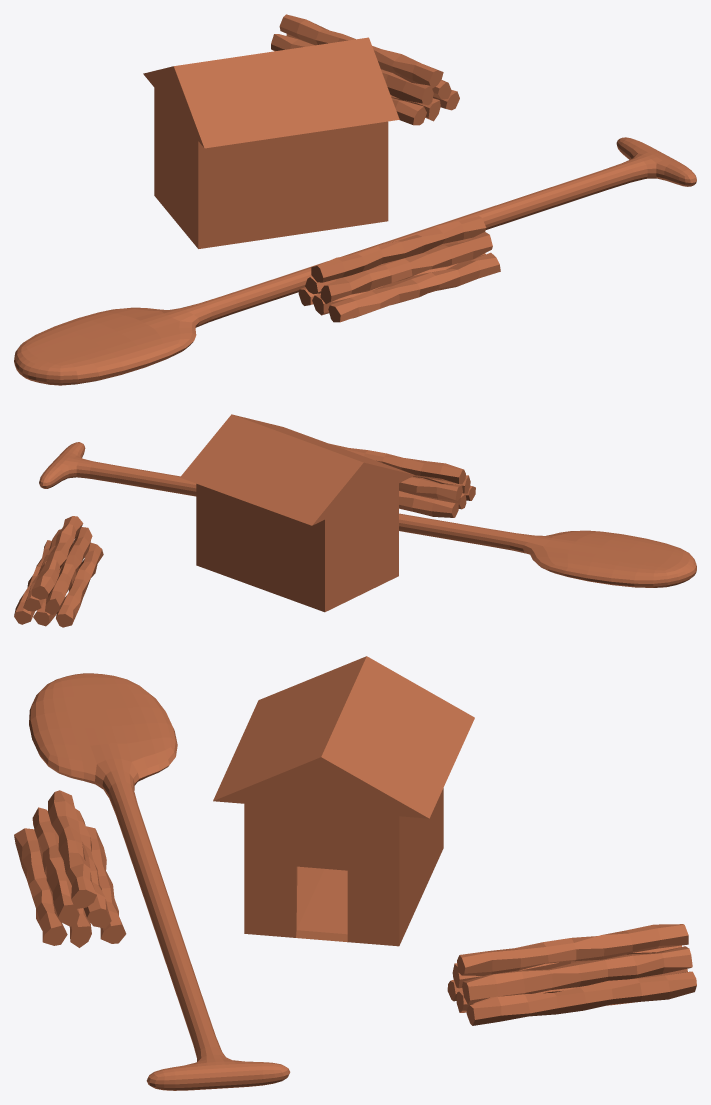
The model's file is cedar-buildings.glb.
3 renders of one model, top to bottom at view 1: azimuth 30°, elevation 25°; view 2: azimuth 150°, elevation 25°; view 3: azimuth 270°, elevation 25°, orthographic. The views are drawn at different scales.
Parts seen in each view (by area): view 1: Cube, Cube.002, Cube.001, Cylinder.003, Cylinder.002, Cylinder.005, Cylinder.011, Cylinder.009, Cylinder.001, Cylinder.008; view 2: Cube, Cube.001, Cube.002, Cylinder.005, Cylinder.011, Cylinder.009, Cylinder.008, Cylinder, Cylinder.004, Cylinder.006, Cylinder.010; view 3: Cube.001, Cube, Cube.002, Cylinder.006, Cylinder.011, Cylinder.010, Cylinder.005, Cylinder.002, Cylinder.003, Cylinder, Cylinder.004, Cylinder.009.
Boxes of the visible parts, <box> form: Cube: <box>154,88,388,248</box>; Cube.002: <box>14,137,696,385</box>; Cube.001: <box>143,37,399,148</box>; Cylinder.003: <box>320,232,492,303</box>; Cylinder.002: <box>328,252,500,322</box>; Cylinder.005: <box>311,216,486,282</box>; Cylinder.011: <box>279,14,443,88</box>; Cylinder.009: <box>271,34,433,105</box>; Cylinder.001: <box>312,253,485,315</box>; Cylinder.008: <box>391,98,426,125</box>; Cube: <box>196,483,398,612</box>; Cube.001: <box>180,414,414,525</box>; Cube.002: <box>39,442,696,587</box>; Cylinder.005: <box>330,444,465,484</box>; Cylinder.011: <box>32,516,83,599</box>; Cylinder.009: <box>45,527,92,614</box>; Cylinder.008: <box>56,542,103,627</box>; Cylinder: <box>399,491,458,517</box>; Cylinder.004: <box>399,476,462,500</box>; Cylinder.006: <box>14,540,51,624</box>; Cylinder.010: <box>23,529,61,611</box>; Cube.001: <box>213,656,474,818</box>; Cube: <box>244,788,443,946</box>; Cube.002: <box>29,673,290,1090</box>; Cylinder.006: <box>466,971,696,1025</box>; Cylinder.011: <box>457,924,688,975</box>; Cylinder.010: <box>462,946,692,1004</box>; Cylinder.005: <box>48,790,96,908</box>; Cylinder.002: <box>14,828,67,945</box>; Cylinder.003: <box>32,807,79,926</box>; Cylinder: <box>86,826,126,943</box>; Cylinder.004: <box>75,808,111,928</box>; Cylinder.009: <box>452,945,681,988</box>.
Bounding box in the file's own units: 6.08 × 1.33 × 4.33.
